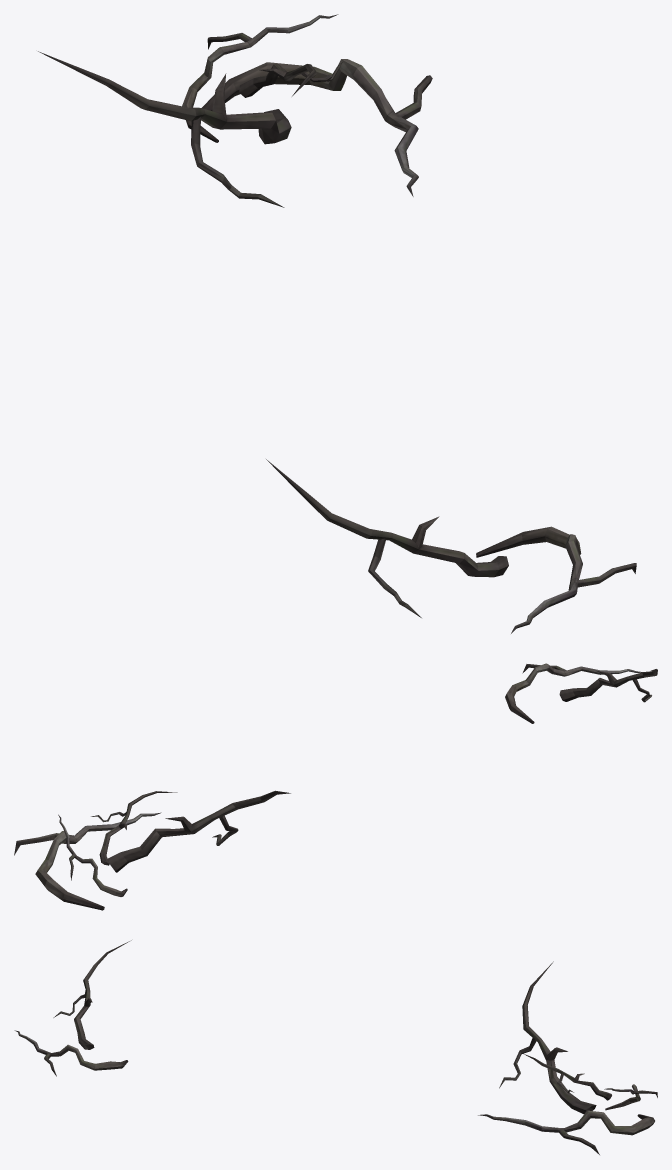
File: Area10_3.fbx
3 views of the same model, one above another, from view 1: azimuth 30°, elevation 25°; view 2: azimuth 150°, elevation 25°; view 3: azimuth 270°, elevation 25° (orthographic). The views are drawn at different scales.
Visible parts, largest first — view 1: Area10_3; view 2: Area10_3; view 3: Area10_3.
Boxes of the visible parts, x1=… form: Area10_3: x1=38, y1=14, x2=636, y2=633; Area10_3: x1=14, y1=663, x2=657, y2=910; Area10_3: x1=14, y1=940, x2=657, y2=1154.
Bounding box in the file's own units: 875 × 264 × 1558.
